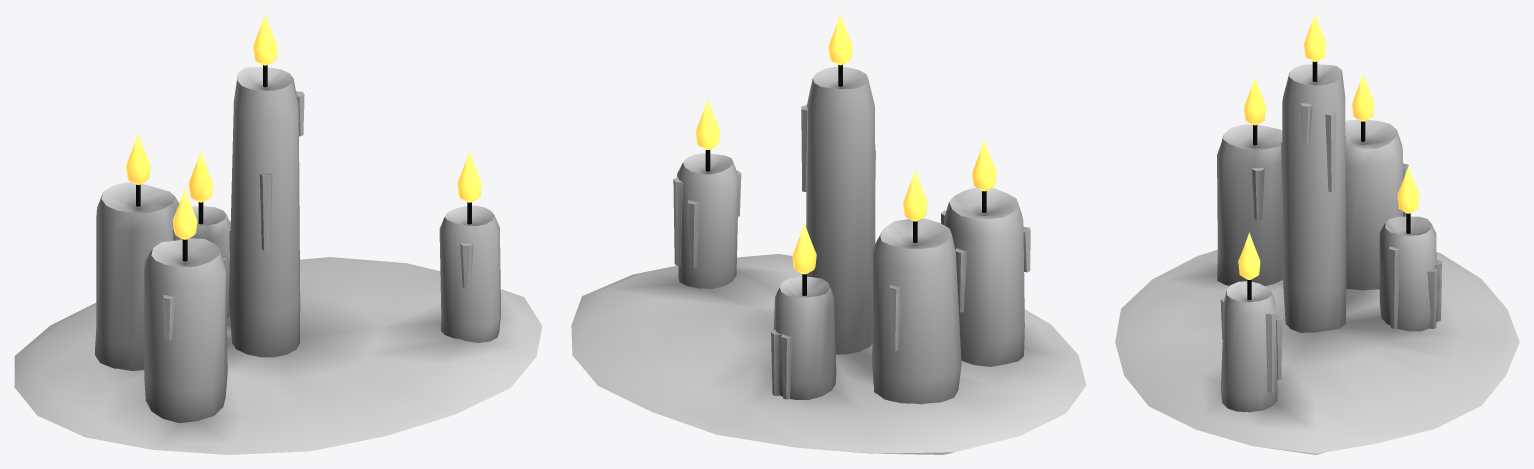
The model's file is candle_cluster.glb.
3 renders of one model, left to right at view 1: azimuth 30°, elevation 25°; view 2: azimuth 150°, elevation 25°; view 3: azimuth 270°, elevation 25°, orthographic. The views are drawn at different scales.
Visible parts, largest first — view 1: candle_cluster; view 2: candle_cluster; view 3: candle_cluster.
Boxes of the visible parts, x1=… form: candle_cluster: x1=14, y1=14, x2=542, y2=454; candle_cluster: x1=571, y1=14, x2=1086, y2=454; candle_cluster: x1=1115, y1=14, x2=1519, y2=454.
Size of the model in its own units: 0.4093 by 0.2946 by 0.317.
